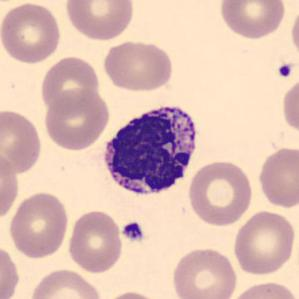Basophil: (97, 98, 203, 202)
Platelets: (120, 220, 145, 242), (275, 61, 294, 80)
RBC: (186, 158, 255, 227), (42, 86, 112, 152), (231, 208, 296, 277), (6, 190, 70, 260), (0, 0, 64, 65), (100, 39, 176, 93), (65, 208, 124, 275), (169, 244, 239, 299), (39, 53, 102, 114), (63, 0, 136, 42), (0, 107, 44, 176), (218, 0, 288, 40), (256, 144, 298, 210), (27, 267, 103, 299), (0, 150, 21, 222), (228, 279, 298, 299), (0, 243, 21, 299), (280, 76, 299, 137), (288, 3, 299, 62), (100, 289, 164, 299)
